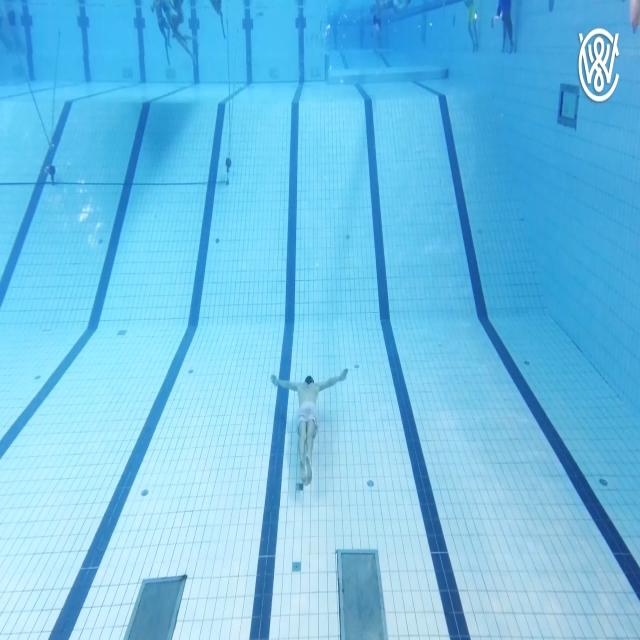Swimming: (271, 372, 348, 487)
